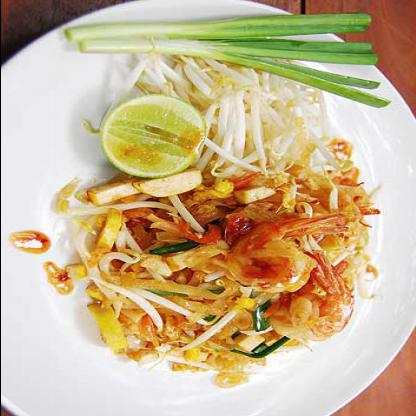Pad Thai: (36, 16, 394, 374)
